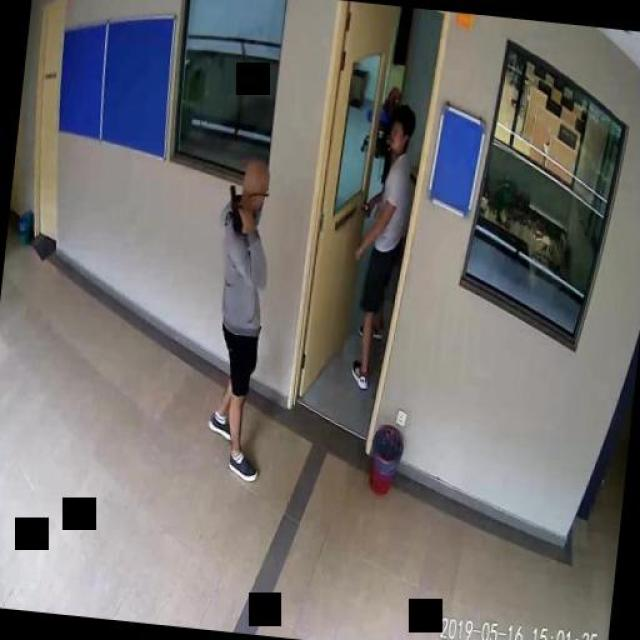gun: (225, 185, 251, 231)
